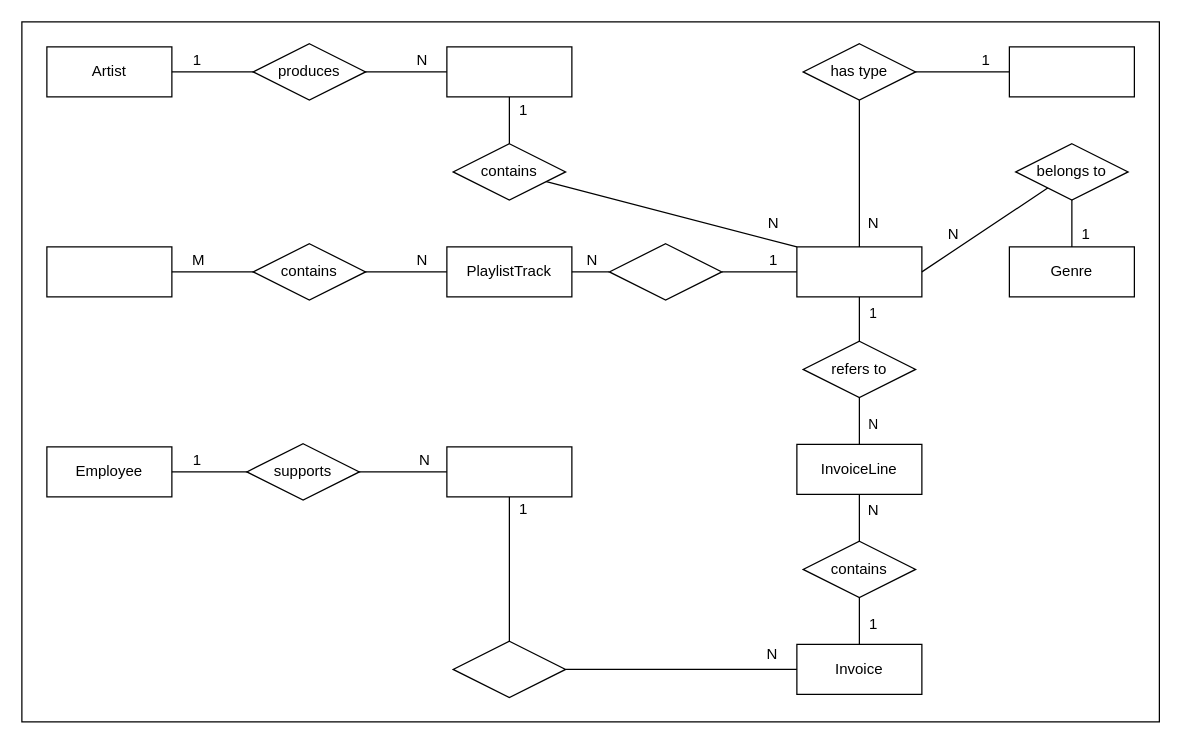
Some shapes in this 1181 by 744 pixel diagram are drawn without their labels. The centre of each missing label's shape, as x and y in pixels:
Album: [509,71]
Customer: [509,471]
has: [509,669]
includes: [665,271]
MediaType: [1071,71]
Playlist: [109,271]
Track: [859,271]
